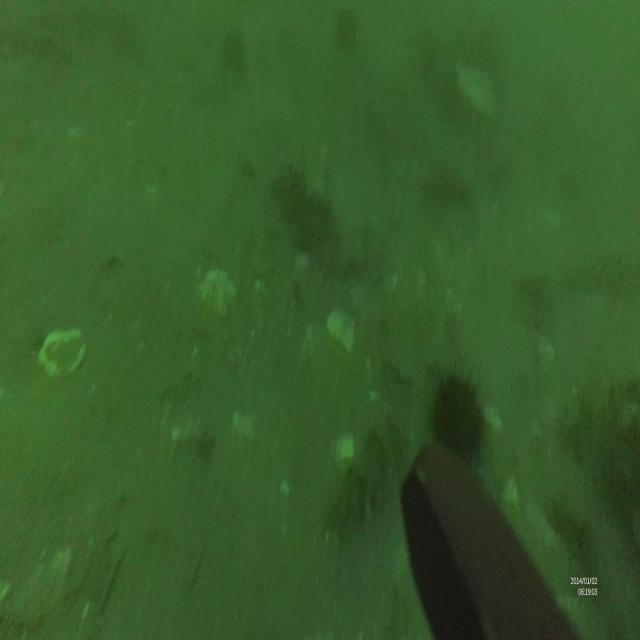echinus: (433, 368, 485, 462)
